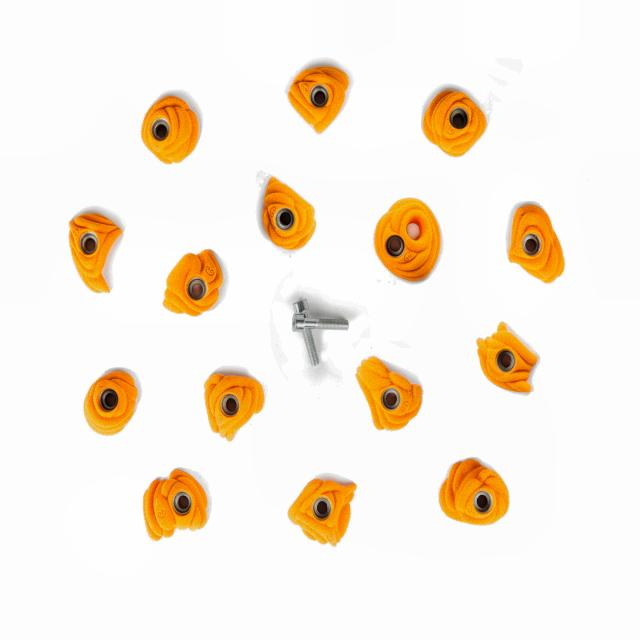Hold: (438, 451, 514, 529), (285, 463, 356, 544), (512, 197, 570, 292), (282, 54, 349, 133), (144, 464, 210, 544), (259, 172, 321, 254), (374, 204, 444, 276), (72, 206, 122, 304), (159, 246, 226, 319), (472, 322, 537, 394), (199, 370, 263, 441), (355, 358, 422, 423), (423, 86, 484, 154), (142, 93, 201, 161), (80, 368, 140, 432)
